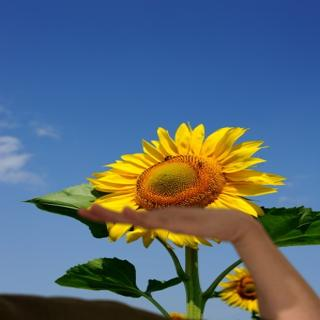WAIT: (77, 197, 260, 248)
